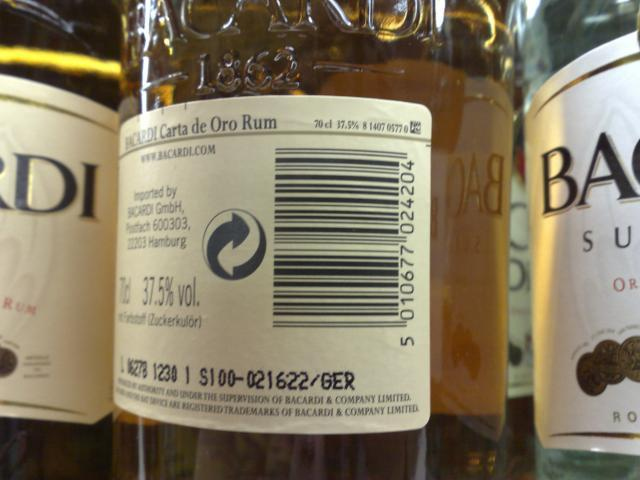Barcode: (266, 137, 422, 357)
